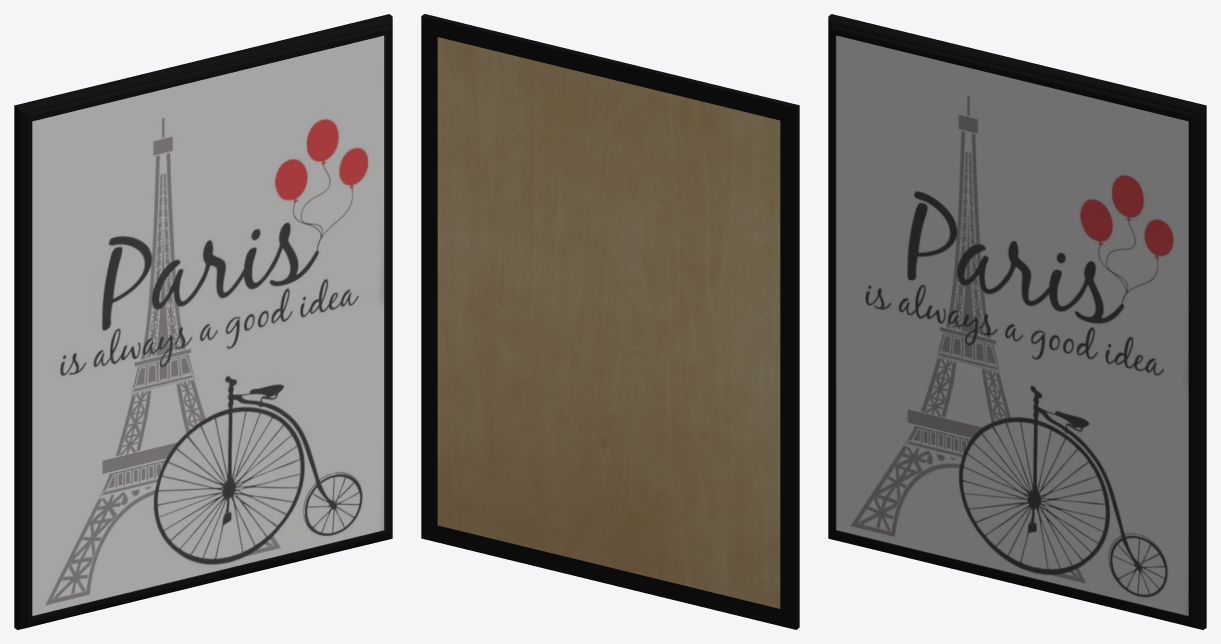
Rendered from poster.glb.
The picture shows the model from 3 angles, left to right: view 1: azimuth 30°, elevation 25°; view 2: azimuth 150°, elevation 25°; view 3: azimuth 330°, elevation 25°; orthographic projection.
Parts seen in each view (by area): view 1: Plexiglass, Paper, Frame; view 2: Wood, Frame; view 3: Paper, Plexiglass, Frame.
Boxes of the visible parts, left/top/right/bottom form: Plexiglass: left=32, top=36, right=384, bottom=615; Paper: left=32, top=35, right=383, bottom=615; Frame: left=14, top=14, right=392, bottom=629; Wood: left=437, top=37, right=780, bottom=608; Frame: left=421, top=14, right=799, bottom=629; Paper: left=836, top=35, right=1188, bottom=615; Plexiglass: left=836, top=36, right=1188, bottom=615; Frame: left=828, top=14, right=1206, bottom=629.
Size of the model in its own units: 21.18 by 28.18 by 0.7.
Materials: 4 (3 with a texture image).
